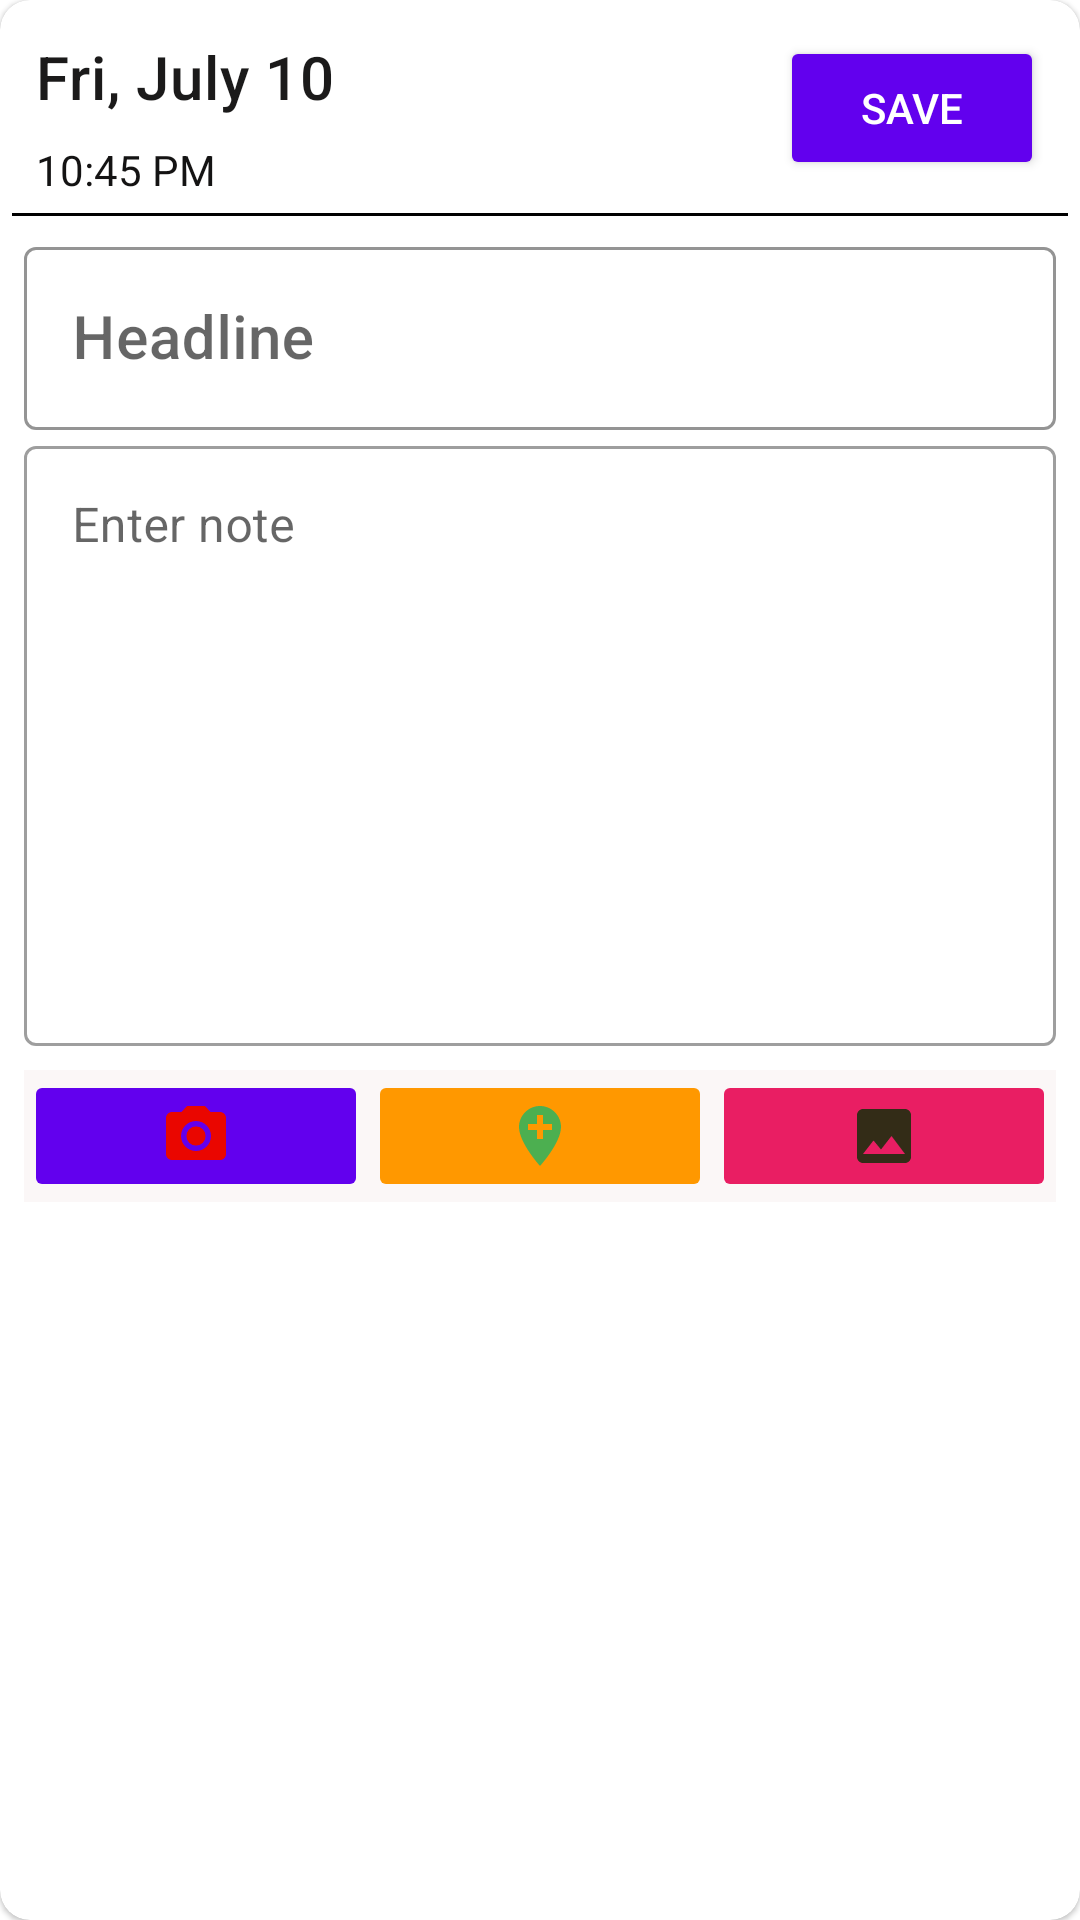

Screen size 1080 × 1920. Icon name, then its box in pixels as [x1,y1,x2,y2]:
add location: [380,1088,700,1184]
camera: [36,1088,356,1184]
